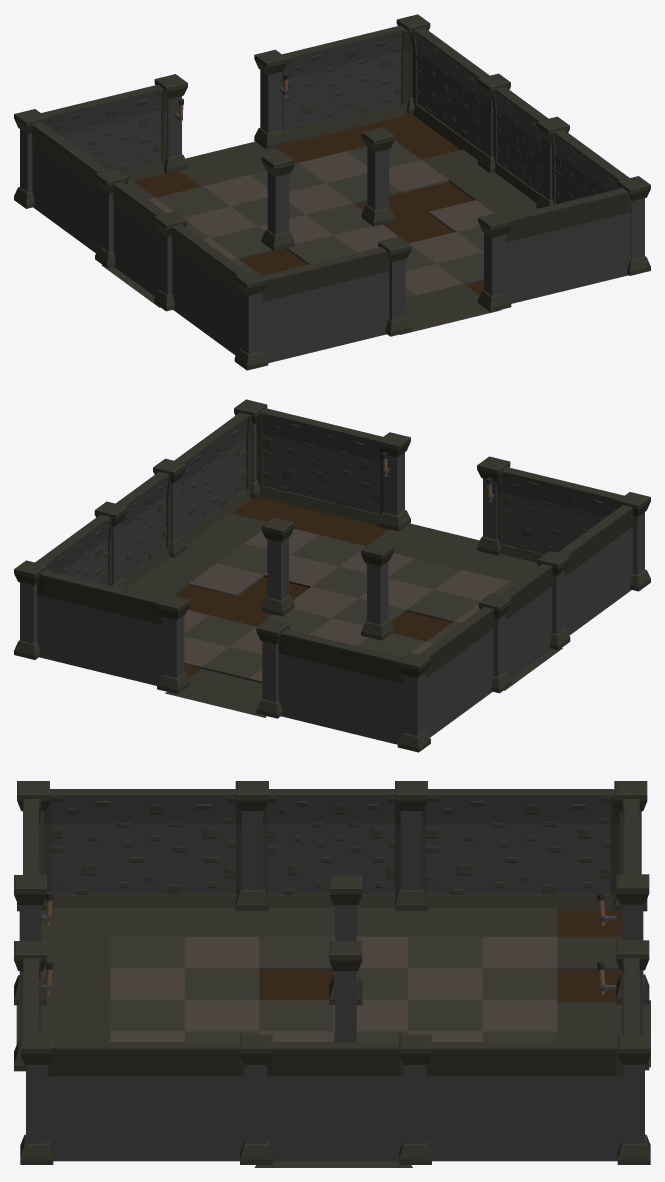
File: Level2Roomlayout1.fbx
3 renders of one model, top to bottom at view 1: azimuth 30°, elevation 25°; view 2: azimuth 150°, elevation 25°; view 3: azimuth 270°, elevation 25°, orthographic. The views are drawn at different scales.
Parts seen in each view (by area): view 1: StonePiller.006, RoomFloor.010; view 2: StonePiller.006, RoomFloor.010; view 3: StonePiller.006, RoomFloor.010.
Part boxes in pixels (<box>): StonePiller.006: <box>14,14,650,370</box>; RoomFloor.010: <box>101,114,537,334</box>; StonePiller.006: <box>14,399,650,752</box>; RoomFloor.010: <box>128,497,562,717</box>; StonePiller.006: <box>14,781,650,1164</box>; RoomFloor.010: <box>16,908,650,1167</box>.
Bounding box in the file's own units: 797 × 165 × 799.
